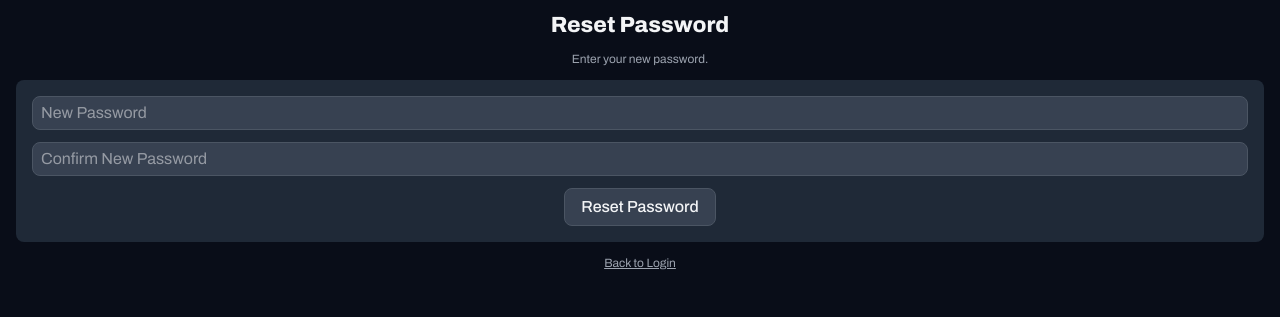
Scenario: ResetPasswordForm Component › Error Handling › shows invalid token error on 400 response
Type "NewPassword1!" into the password field with test id "password-input".
click(640, 113); type("NewPassword1!")  # box [32,96,1248,130]
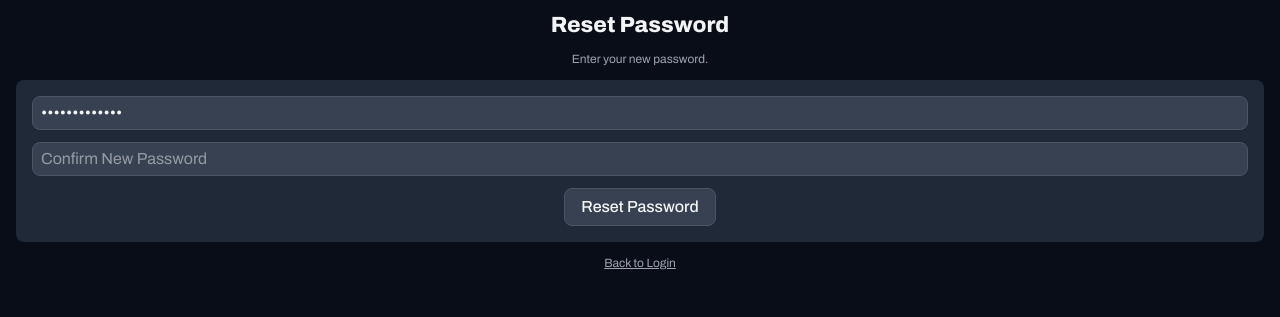
Type "NewPassword1!" into the password field with test id "password-confirmation-input".
click(640, 159); type("NewPassword1!")  # box [32,142,1248,176]
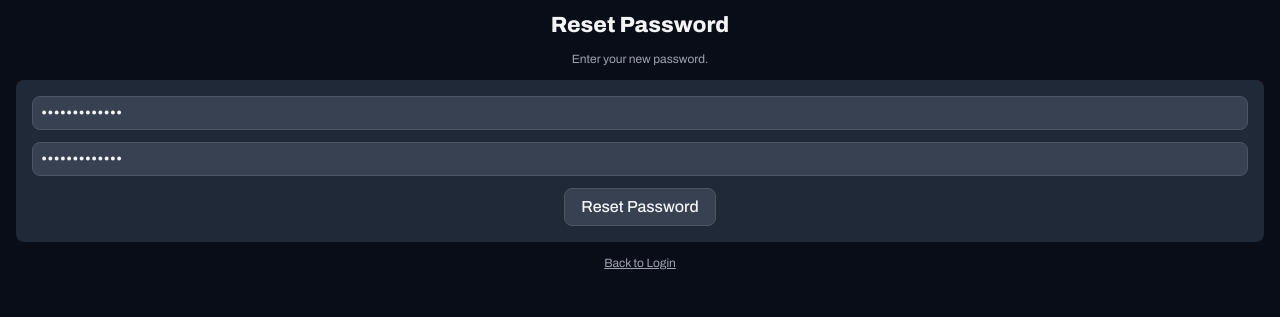
Click the button with test id "reset-password-button".
click(640, 207)  # box [564,188,716,226]
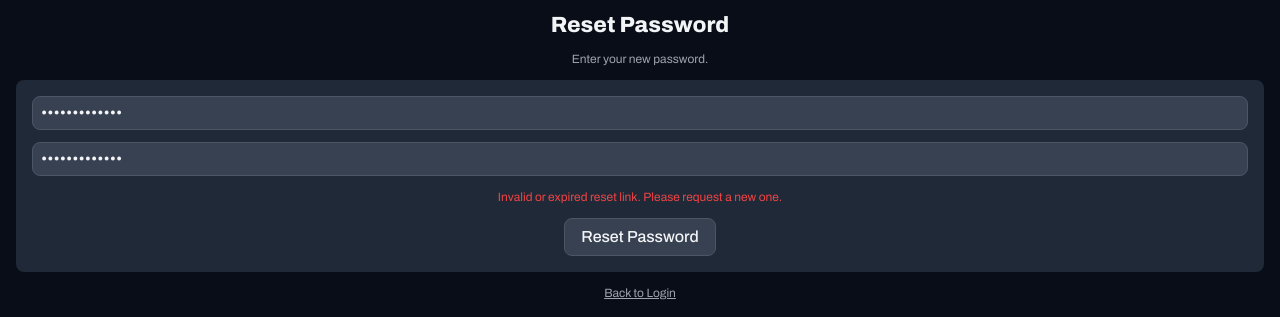
Expected: the text "Invalid or expired reset link. Please request a new one." is shown, [498,188,782,206]
Expected: the text with test id "error-message" reads "Invalid or expired reset link. Please request a new one.", [498,190,782,204]
